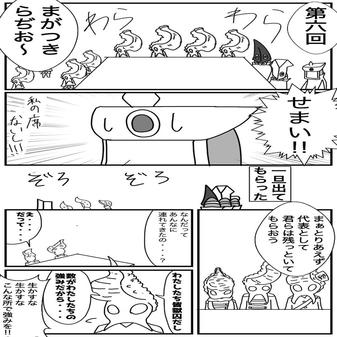bubble: (251, 85, 336, 165), (255, 201, 334, 277), (0, 0, 76, 70), (145, 210, 191, 266), (288, 1, 336, 53), (157, 271, 191, 333), (5, 210, 40, 249)
